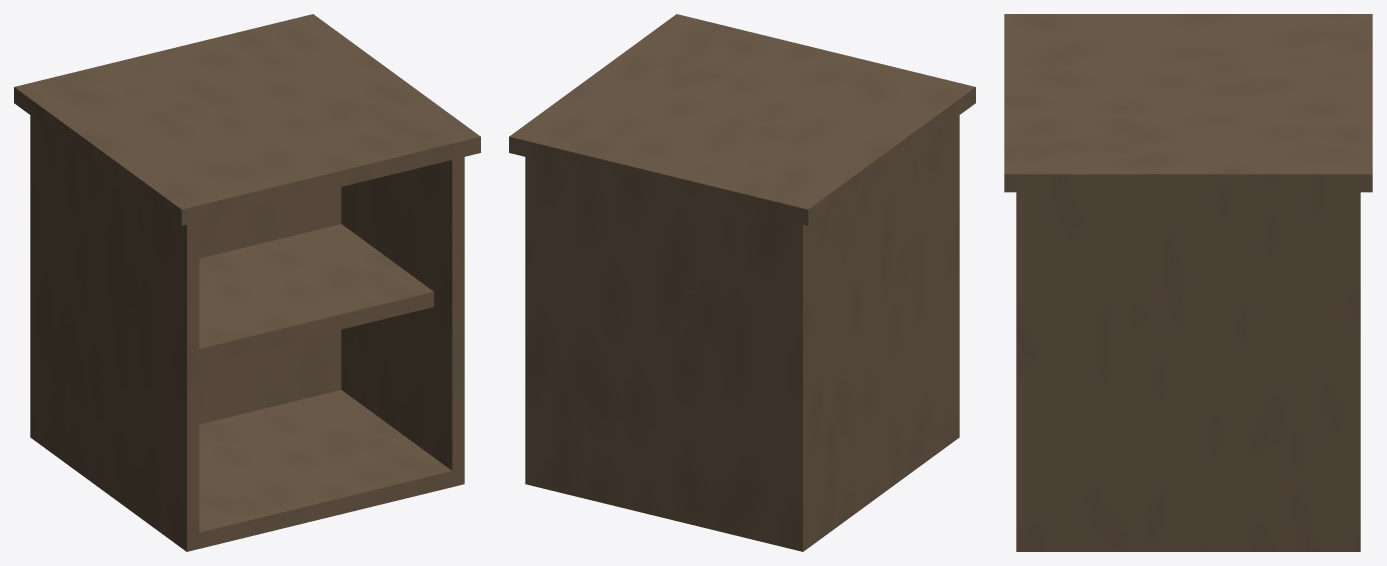
The model's file is Tumba.fbx.
3 views of the same model, side by side, from view 1: azimuth 30°, elevation 25°; view 2: azimuth 150°, elevation 25°; view 3: azimuth 270°, elevation 25° (orthographic). The views are drawn at different scales.
Visible parts, largest first — view 1: Cube.034; view 2: Cube.034; view 3: Cube.034.
Part boxes in pixels (box(x1,y1,x2,y2)): Cube.034: box(14, 14, 480, 551); Cube.034: box(509, 14, 975, 551); Cube.034: box(1004, 14, 1372, 551).
Bounding box in the file's own units: 86.51 × 96.42 × 83.95.
